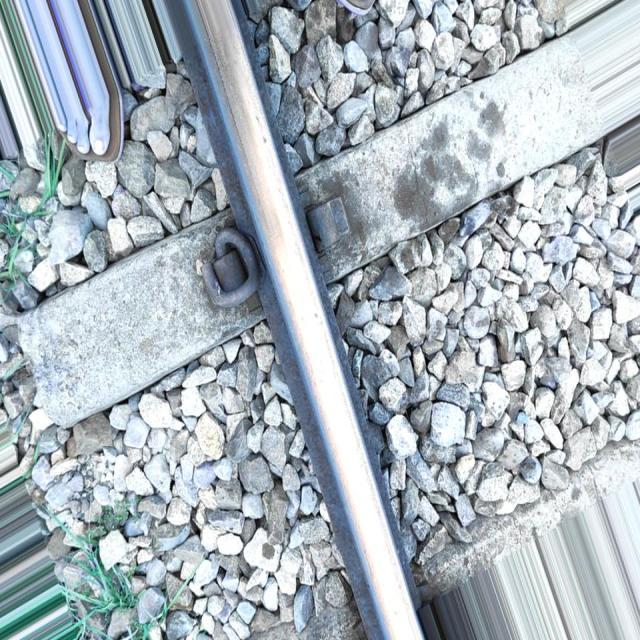Good Fasteners: (203, 228, 263, 308)
Missing Fastener: (300, 177, 357, 258)
